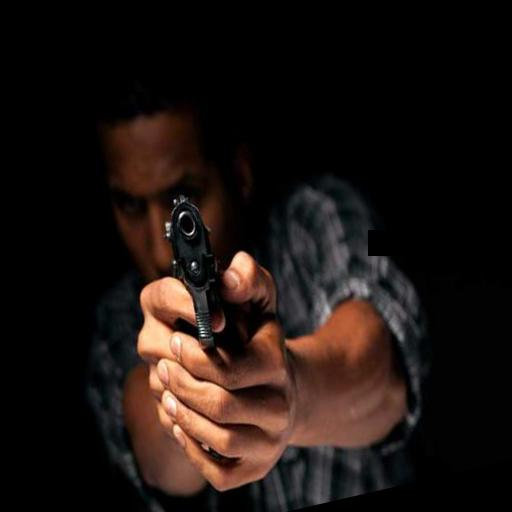Handgun: (150, 187, 242, 360)
